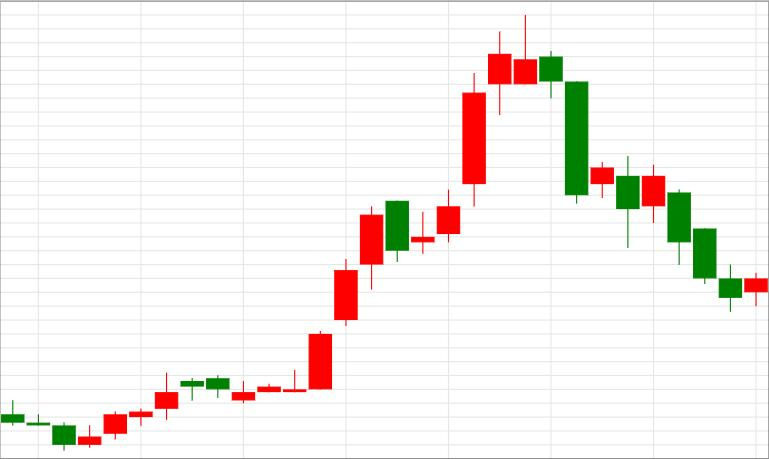shooting_star_fall: (411, 16, 536, 256)
